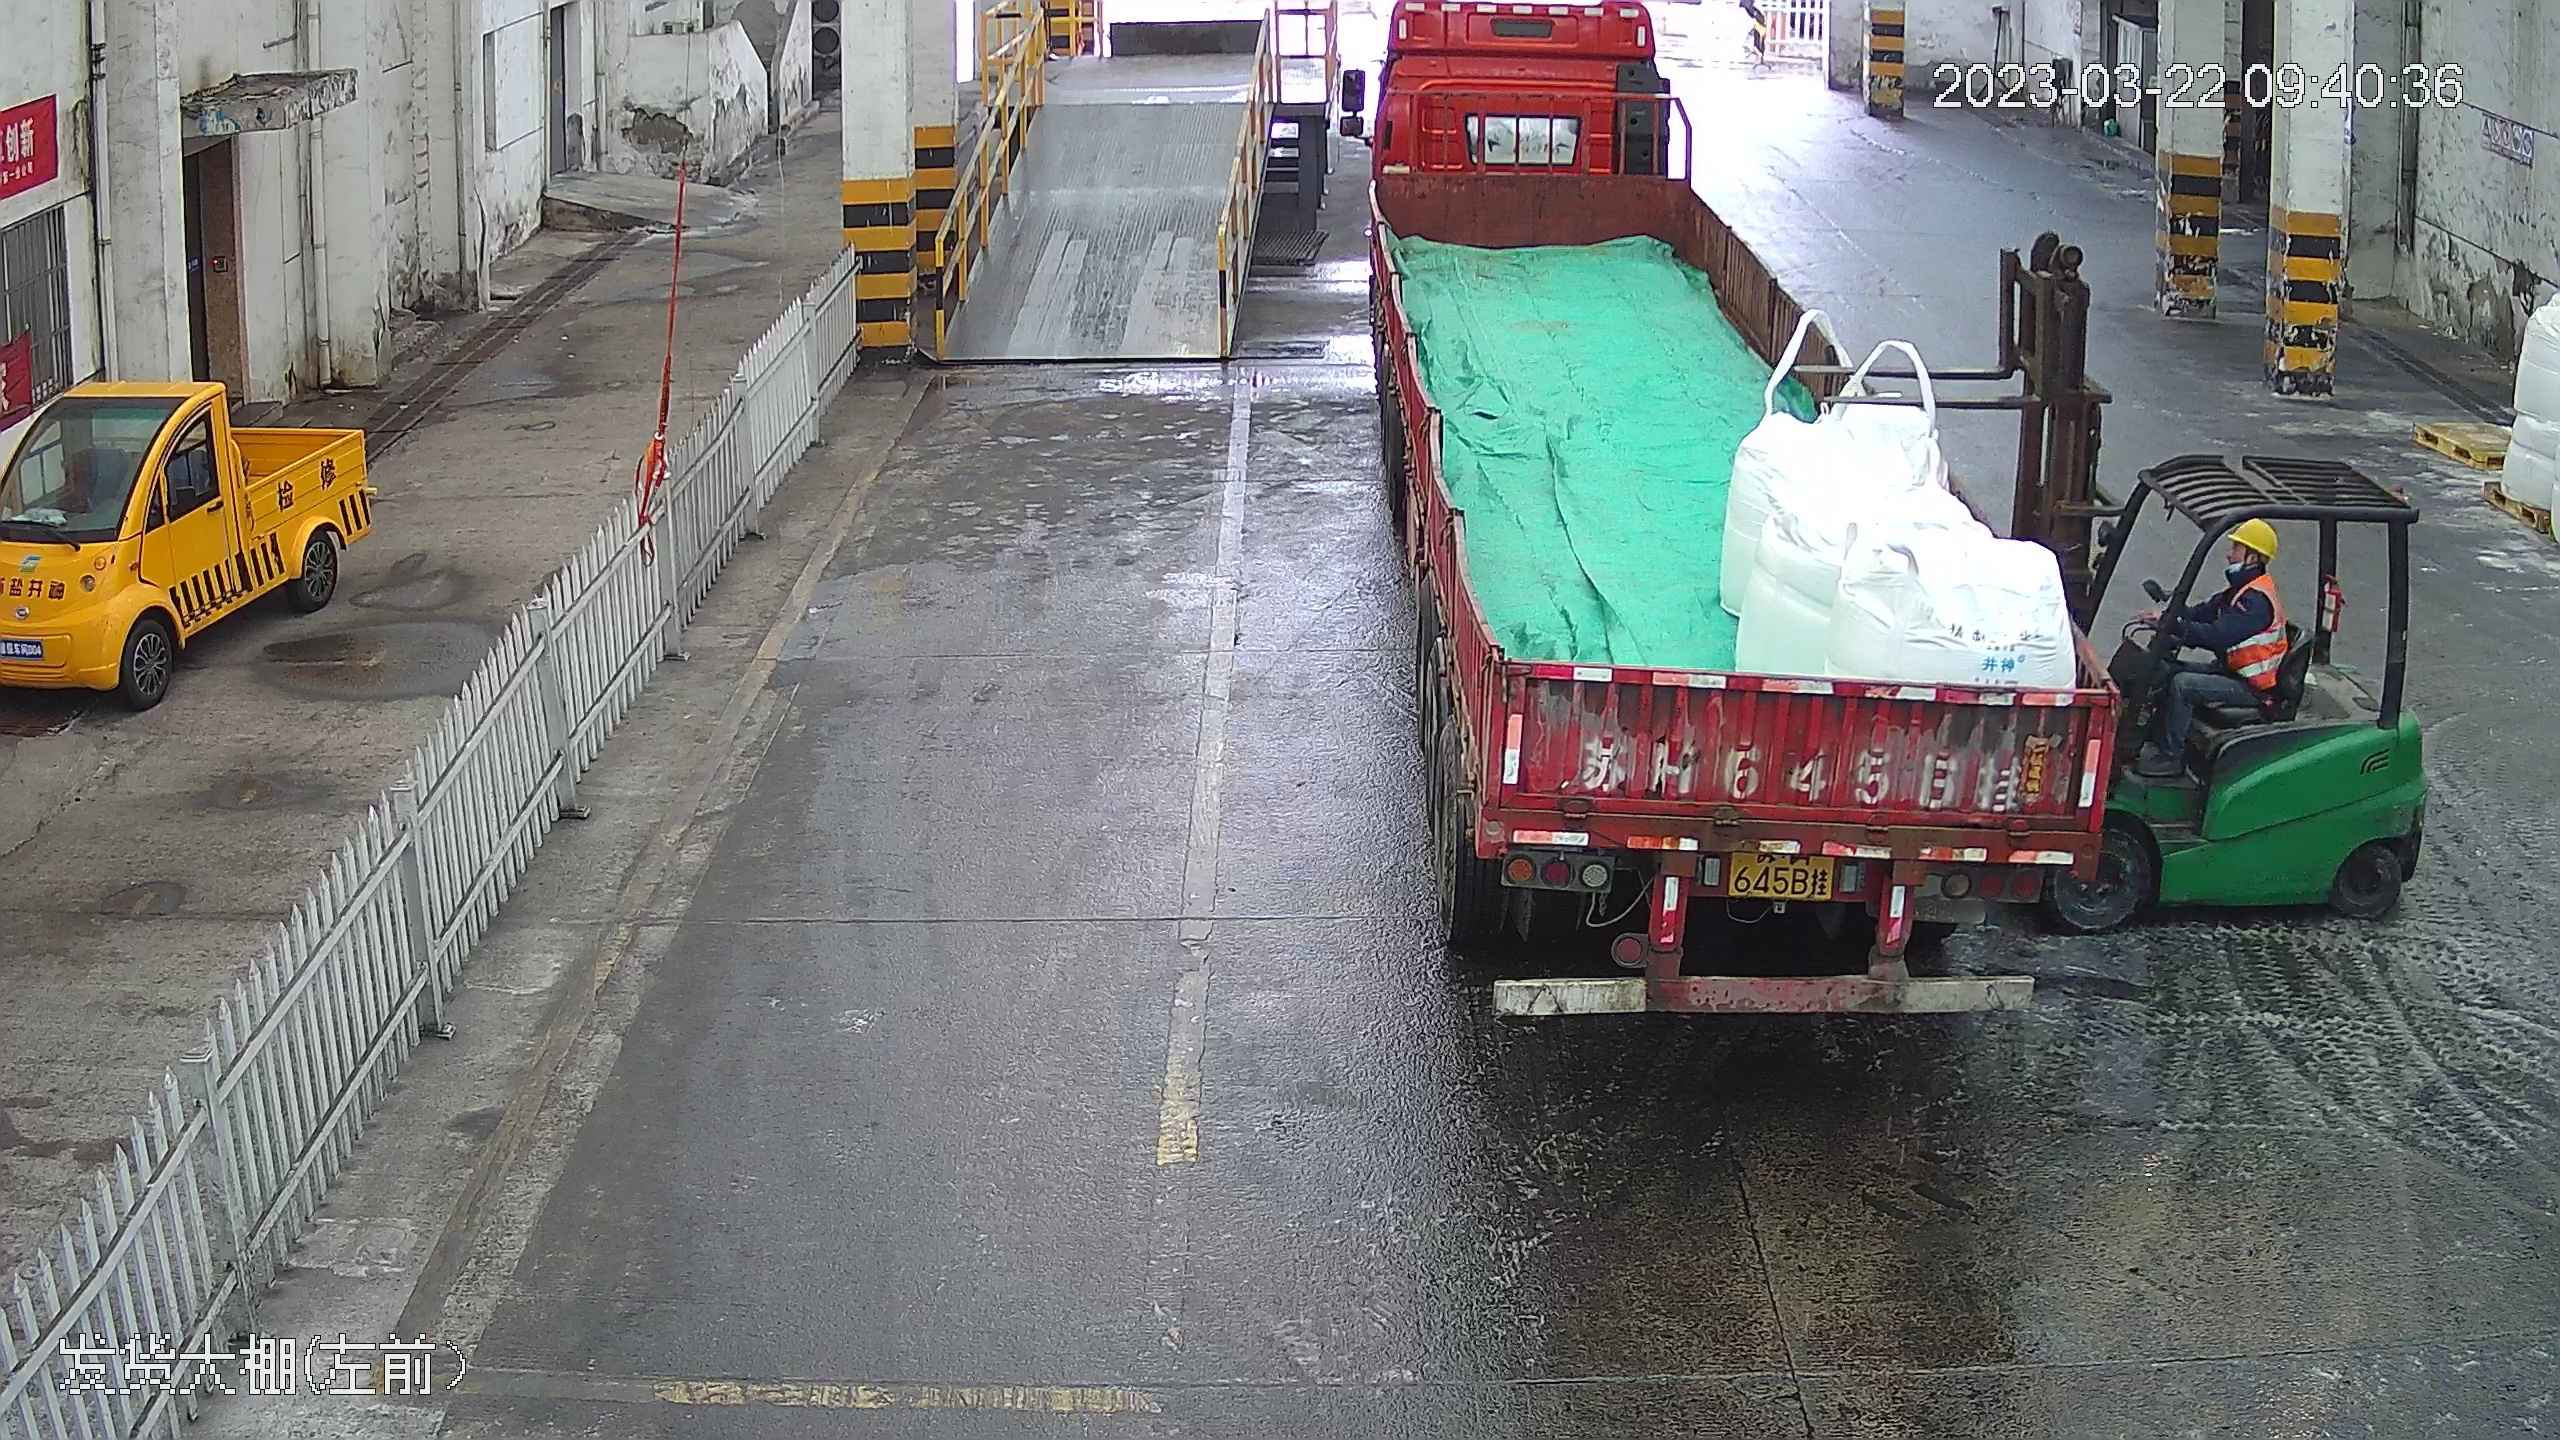head: (2209, 517, 2283, 630)
helmet: (2224, 517, 2277, 559)
people: (2125, 514, 2288, 779)
truck: (1344, 1, 2102, 1004)
